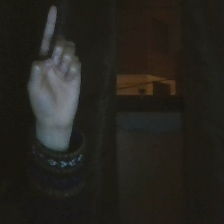D: (16, 4, 92, 131)
